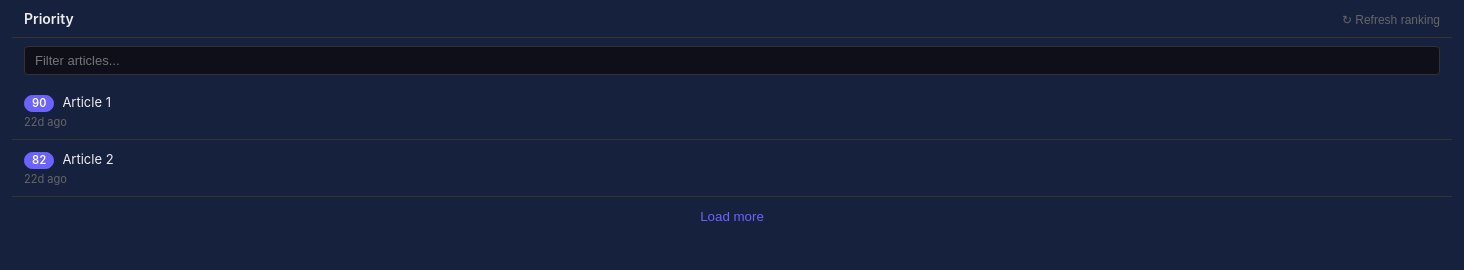
Test case: PriorityList › loadMoreFailureRelabelsAndRetries
The width and height of the screenshot is (1464, 270).
expect the text "Article 2" is shown: met, box [62, 150, 114, 168]
Click the button "Load more": [732, 216] box [12, 197, 1452, 236]
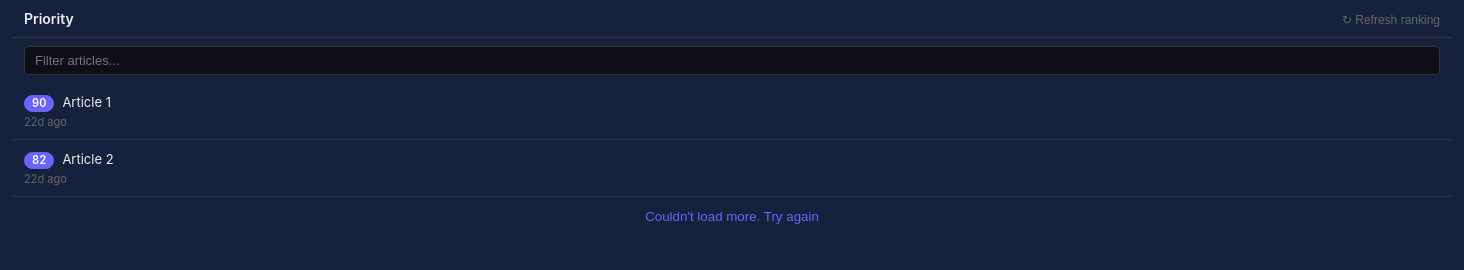
Click the button "Couldn't load more. Try again": [732, 216] box [12, 197, 1452, 236]
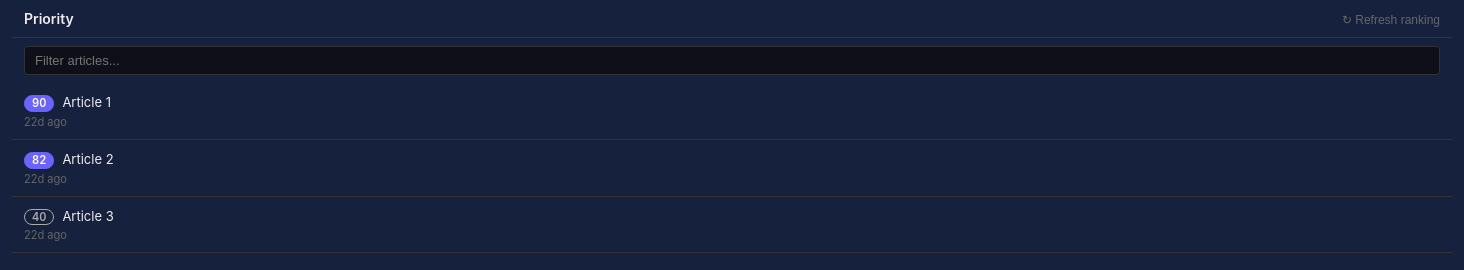
expect the text "Article 3" is shown: met, box [62, 207, 114, 225]
